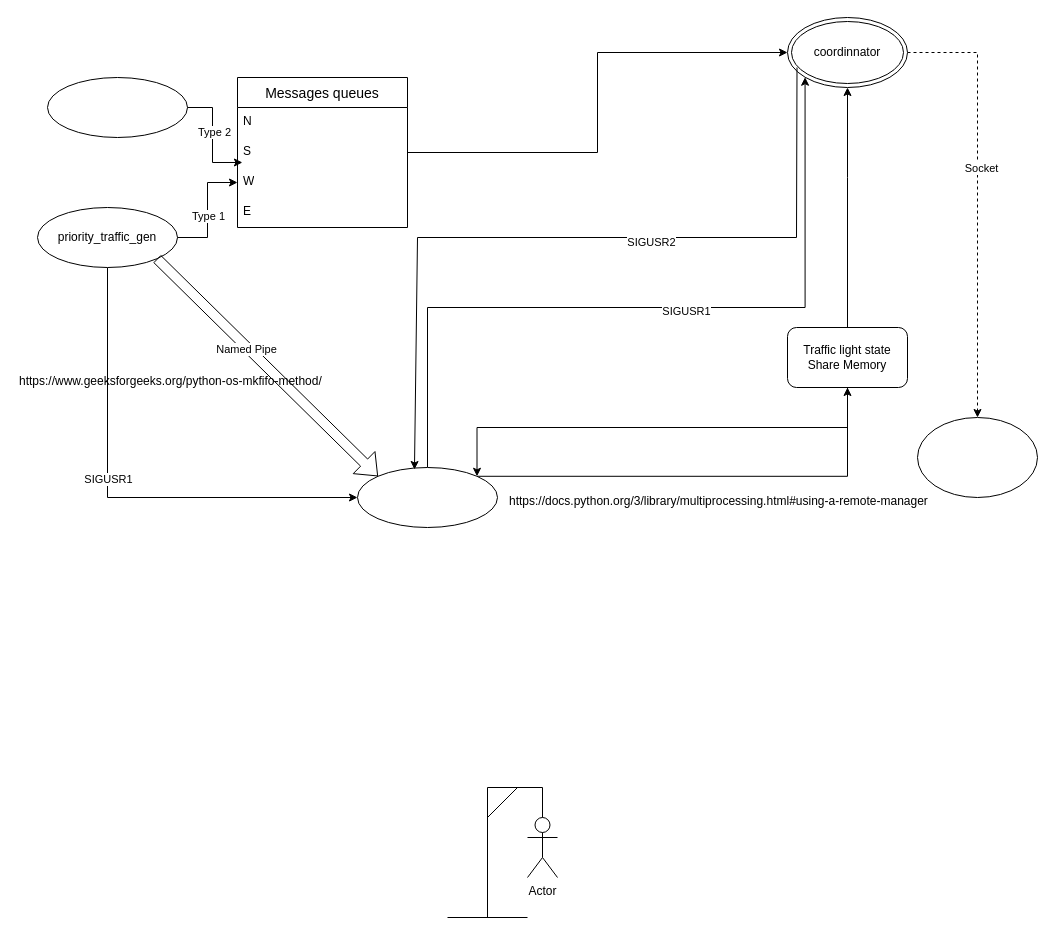
The diagram is 1055 pixels wide and 936 high, and some of its shapes have lost their labels. The shapes that lost their labels are listed below. From the top down, each one's centre as x and y in pixels, then its label:
At pixel 117 107: "normal_traffic_gen".
At pixel 977 457: "Display".
At pixel 427 497: "light".
